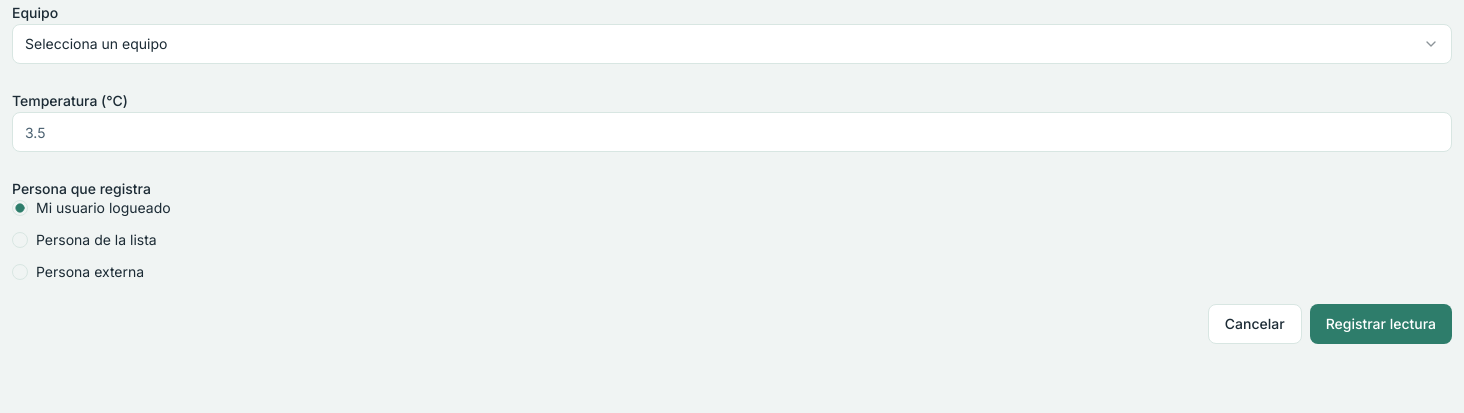
Test: ReadingForm · validation › shows validation errors when fields are empty
The image size is (1464, 413).
Click the button "Registrar lectura".
click(1381, 324)  # box [1310, 304, 1452, 344]
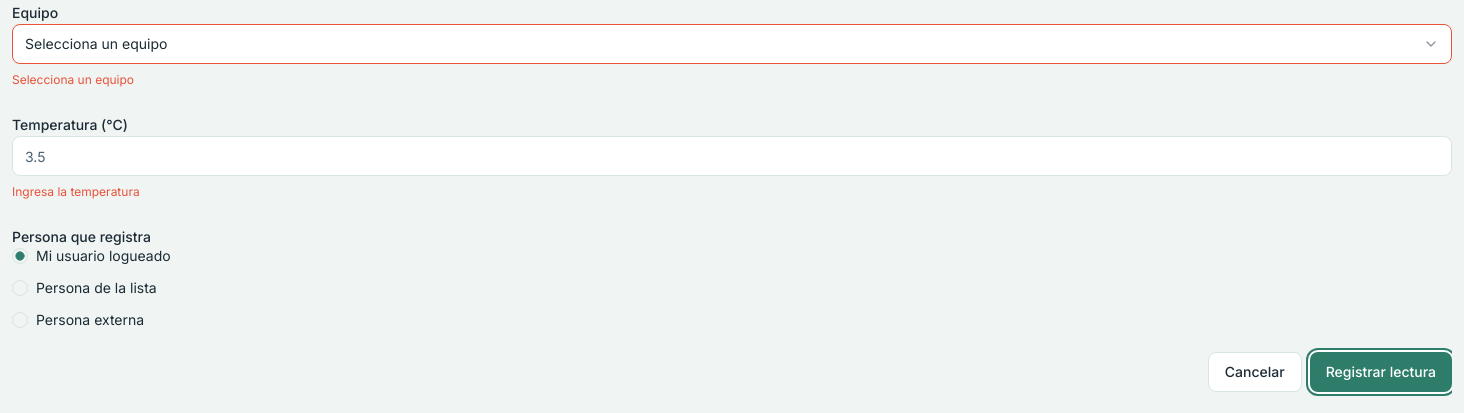
Expected: the text "Ingresa la temperatura" is shown, [12, 184, 140, 199]
